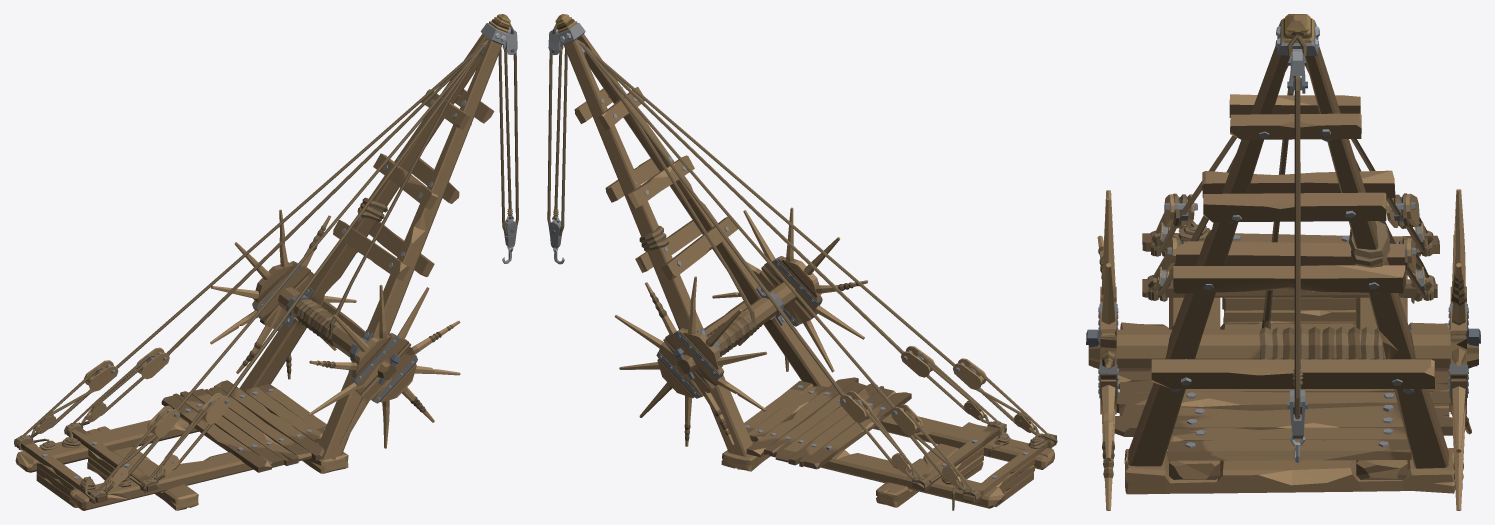
The model's file is SM_Prop_Crane_01.fbx.
The picture shows the model from 3 angles, left to right: view 1: azimuth 30°, elevation 25°; view 2: azimuth 150°, elevation 25°; view 3: azimuth 270°, elevation 25°; orthographic projection. The views are drawn at different scales.
Parts seen in each view (by area): view 1: SM_Prop_Crane_01, SM_Prop_Crane_Crank_01; view 2: SM_Prop_Crane_01, SM_Prop_Crane_Crank_01; view 3: SM_Prop_Crane_01, SM_Prop_Crane_Crank_01.
Part boxes in pixels (<box>): SM_Prop_Crane_01: <box>14,14,518,510</box>; SM_Prop_Crane_Crank_01: <box>210,209,460,448</box>; SM_Prop_Crane_01: <box>547,14,1057,510</box>; SM_Prop_Crane_Crank_01: <box>614,207,867,446</box>; SM_Prop_Crane_01: <box>1114,14,1455,494</box>; SM_Prop_Crane_Crank_01: <box>1086,189,1480,510</box>.
Bounding box in the file's own units: 953 × 709 × 384.
Materials: 1 (1 with a texture image).
